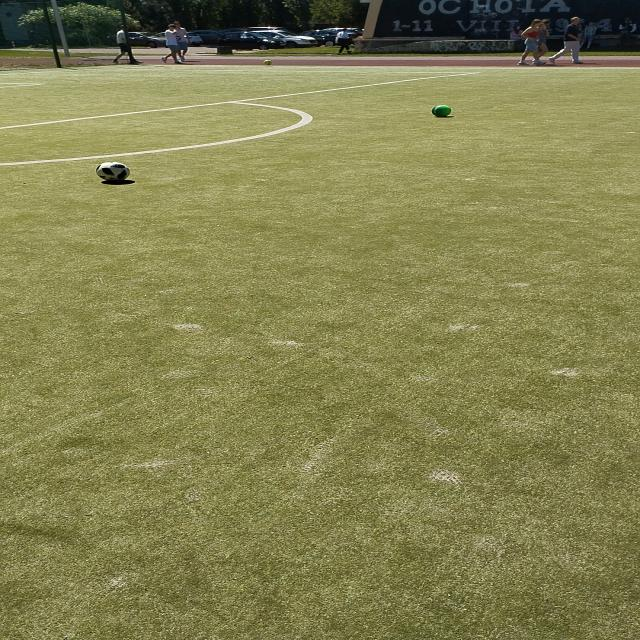nozna: (96, 162, 130, 181)
zielona: (432, 105, 452, 117)
